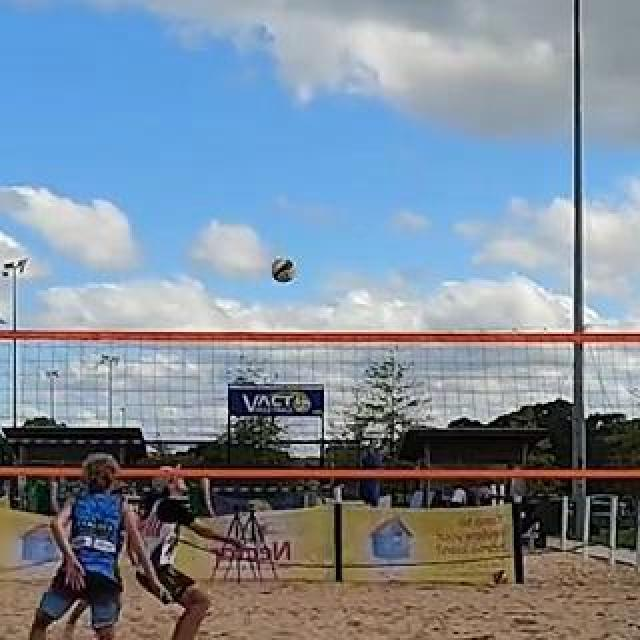volleyball: (272, 261, 294, 281), (493, 569, 509, 585)
